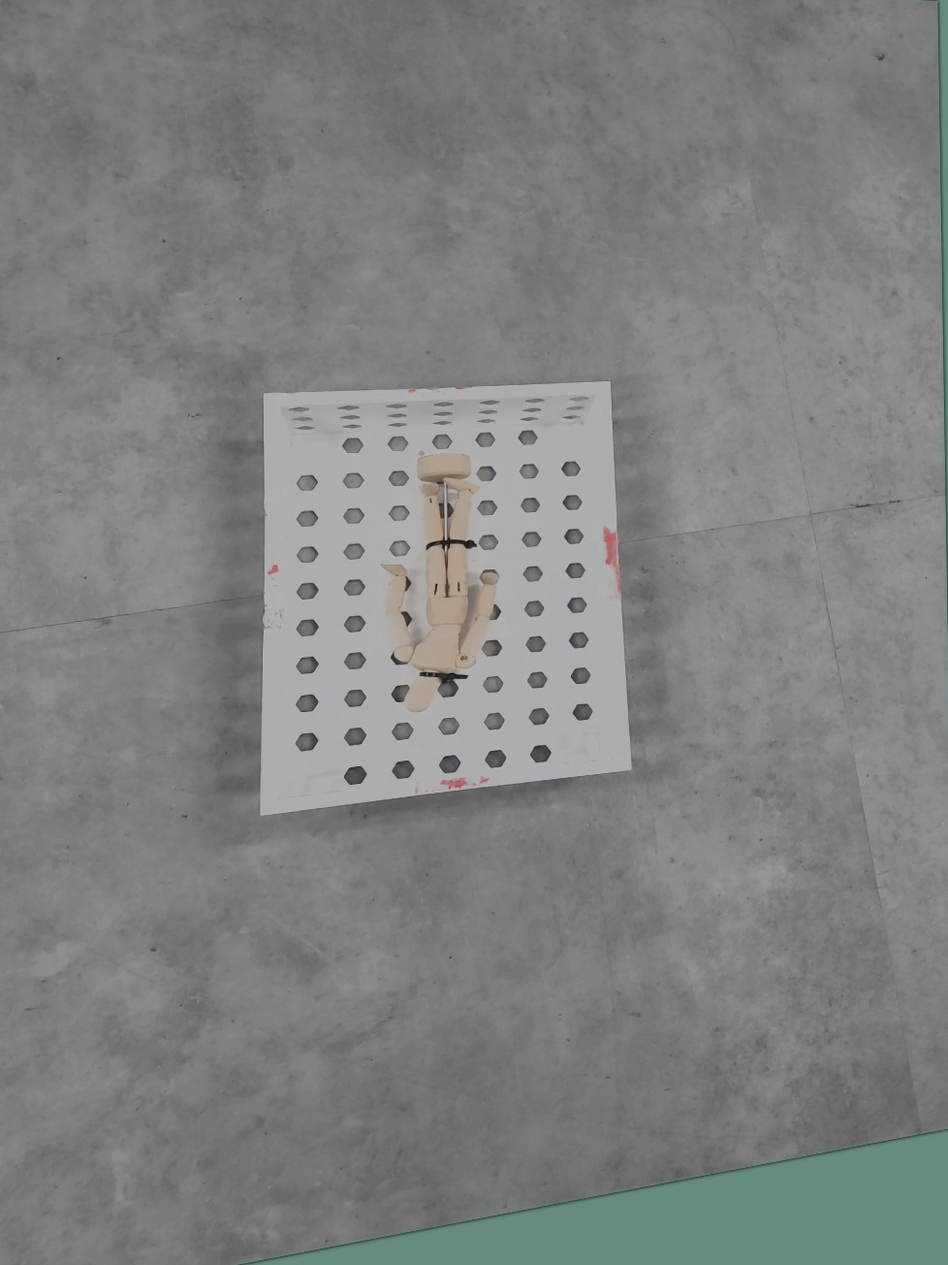basket: (254, 377, 635, 821)
mannequin: (374, 446, 500, 725)
